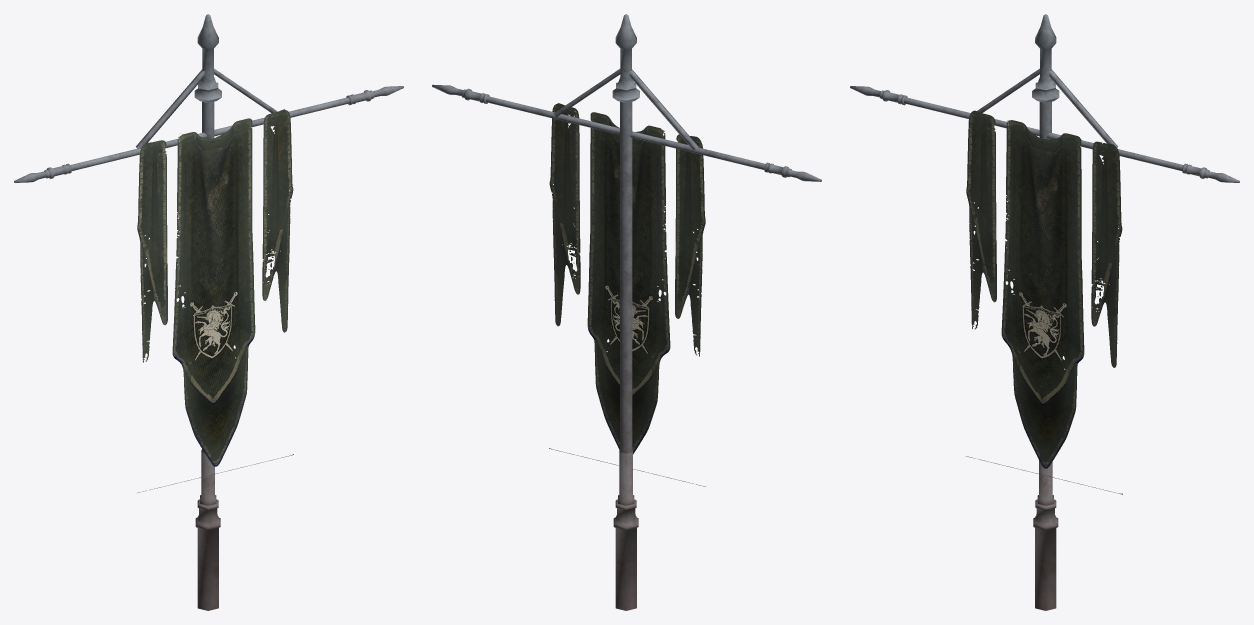
The model's file is Flag_A.fbx.
3 views of the same model, side by side, from view 1: azimuth 30°, elevation 25°; view 2: azimuth 150°, elevation 25°; view 3: azimuth 330°, elevation 25° (orthographic).
Visible parts, largest first — view 1: Flag_A_low, FlagFrame003_low, FlagFrame002_low, FlagFrame004_low, FlagFrame006_low, FlagFrame005_low; view 2: Flag_A_low, FlagFrame001_low, FlagFrame003_low, FlagFrame004_low, FlagFrame002_low, FlagFrame006_low, FlagFrame005_low; view 3: Flag_A_low, FlagFrame003_low, FlagFrame002_low, FlagFrame004_low, FlagFrame006_low, FlagFrame005_low.
Part boxes in pixels (x1,y1,x2,y2): Flag_A_low: (137, 109, 293, 492); FlagFrame003_low: (195, 450, 220, 610); FlagFrame002_low: (194, 14, 221, 102); FlagFrame004_low: (70, 97, 349, 170); FlagFrame006_low: (136, 68, 277, 148); FlagFrame005_low: (14, 86, 403, 182); Flag_A_low: (549, 103, 705, 486); FlagFrame001_low: (620, 101, 632, 453); FlagFrame003_low: (613, 450, 638, 610); FlagFrame004_low: (486, 96, 765, 169); FlagFrame002_low: (612, 14, 639, 102); FlagFrame006_low: (553, 69, 698, 150); FlagFrame005_low: (432, 84, 821, 181); Flag_A_low: (966, 110, 1122, 494); FlagFrame003_low: (1033, 460, 1058, 610); FlagFrame002_low: (1032, 14, 1059, 102); FlagFrame004_low: (904, 97, 1183, 170); FlagFrame006_low: (977, 68, 1117, 147); FlagFrame005_low: (850, 86, 1239, 182).
Size of the model in its own units: 1.9 by 2.77 by 0.1157.
